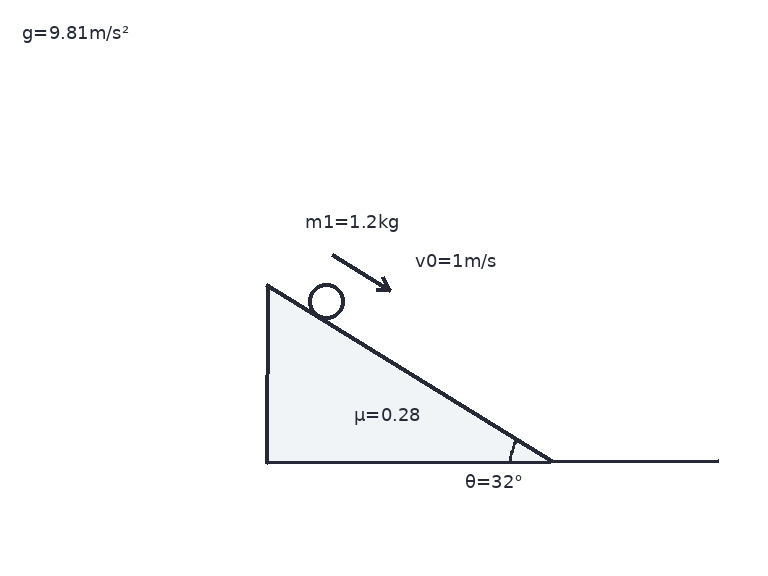ball: (306, 281, 346, 321)
ramp: (265, 283, 552, 464)
